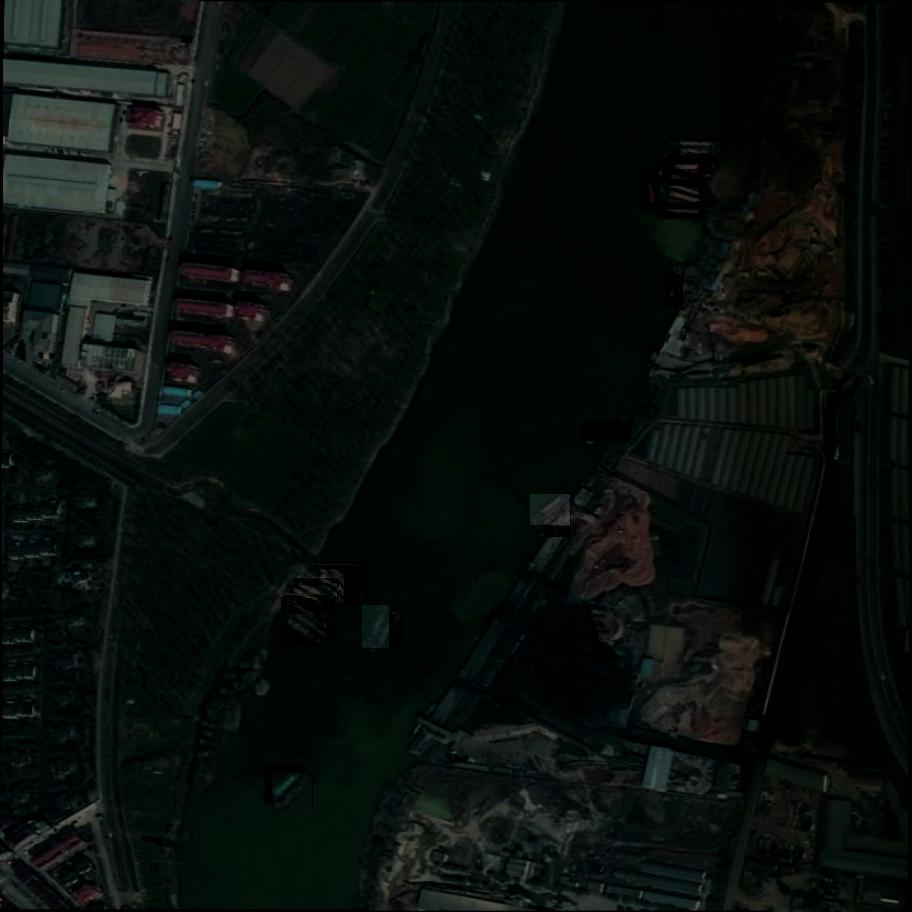ship: (315, 560, 368, 600), (315, 565, 360, 608), (283, 604, 334, 639), (278, 613, 326, 648), (300, 570, 345, 607), (272, 772, 313, 812), (265, 765, 304, 806), (284, 595, 329, 630), (666, 139, 718, 169), (530, 494, 571, 528), (287, 585, 338, 612), (294, 578, 340, 607), (369, 613, 403, 651), (544, 493, 571, 539), (363, 603, 389, 650), (659, 186, 712, 208), (582, 420, 631, 443), (282, 598, 336, 615), (662, 179, 706, 199), (641, 169, 661, 212), (657, 170, 705, 186), (666, 275, 687, 310), (655, 210, 706, 220), (662, 157, 716, 165), (669, 142, 721, 150), (663, 165, 710, 173), (659, 202, 708, 209)
